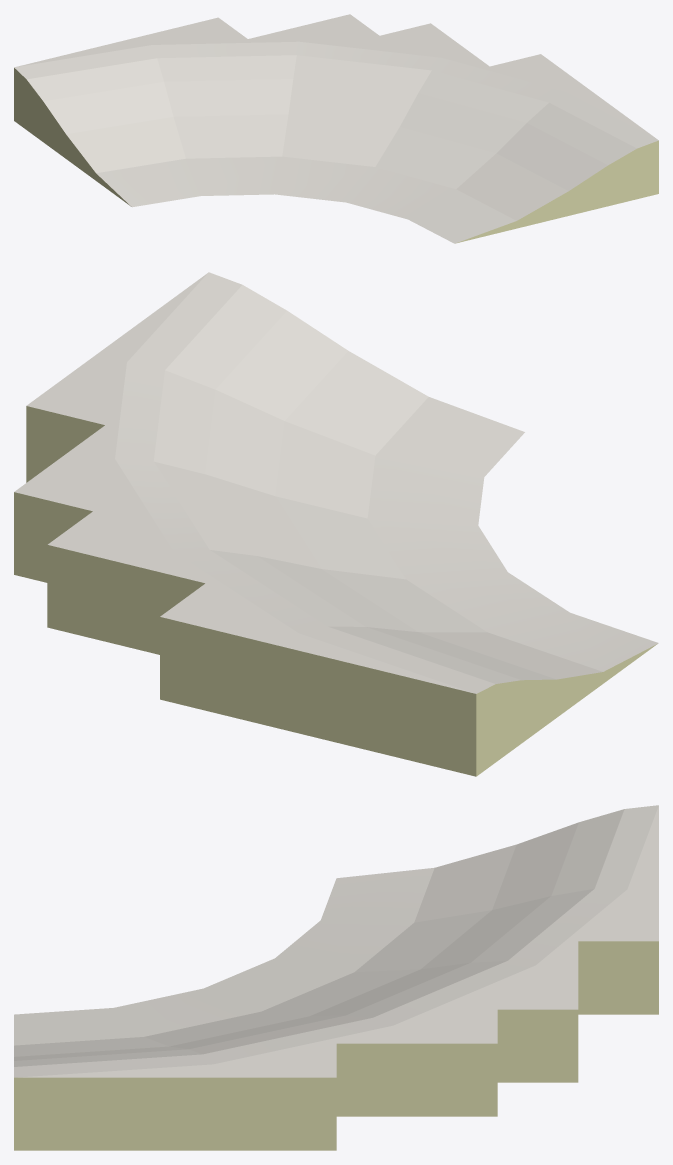
Rendered from Floor_Curve_Inner_8x8.glb.
3 views of the same model, one above another, from view 1: azimuth 30°, elevation 25°; view 2: azimuth 150°, elevation 25°; view 3: azimuth 270°, elevation 25° (orthographic). The views are drawn at different scales.
Visible parts, largest first — view 1: Floor_Curve_Inner_8x8; view 2: Floor_Curve_Inner_8x8; view 3: Floor_Curve_Inner_8x8.
Boxes of the visible parts, x1,y1,x2,y2 form: Floor_Curve_Inner_8x8: (14,14,658,243); Floor_Curve_Inner_8x8: (14,272,658,776); Floor_Curve_Inner_8x8: (14,805,658,1150).
Bounding box in the file's own units: 800 × 100 × 800.
